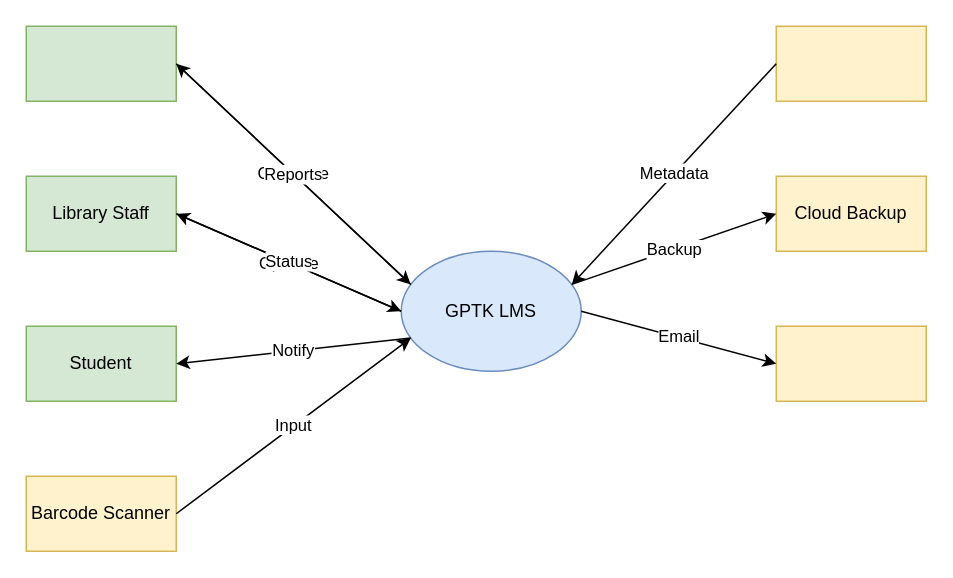
Some shapes in this 953 by 578 pixel diagram are drawn without their labels. Here are the shapes that lost their labels. From the top down, the centre of each, then its label:
pixel 100 63: Administrator
pixel 850 63: Book API
pixel 850 363: Email Server
